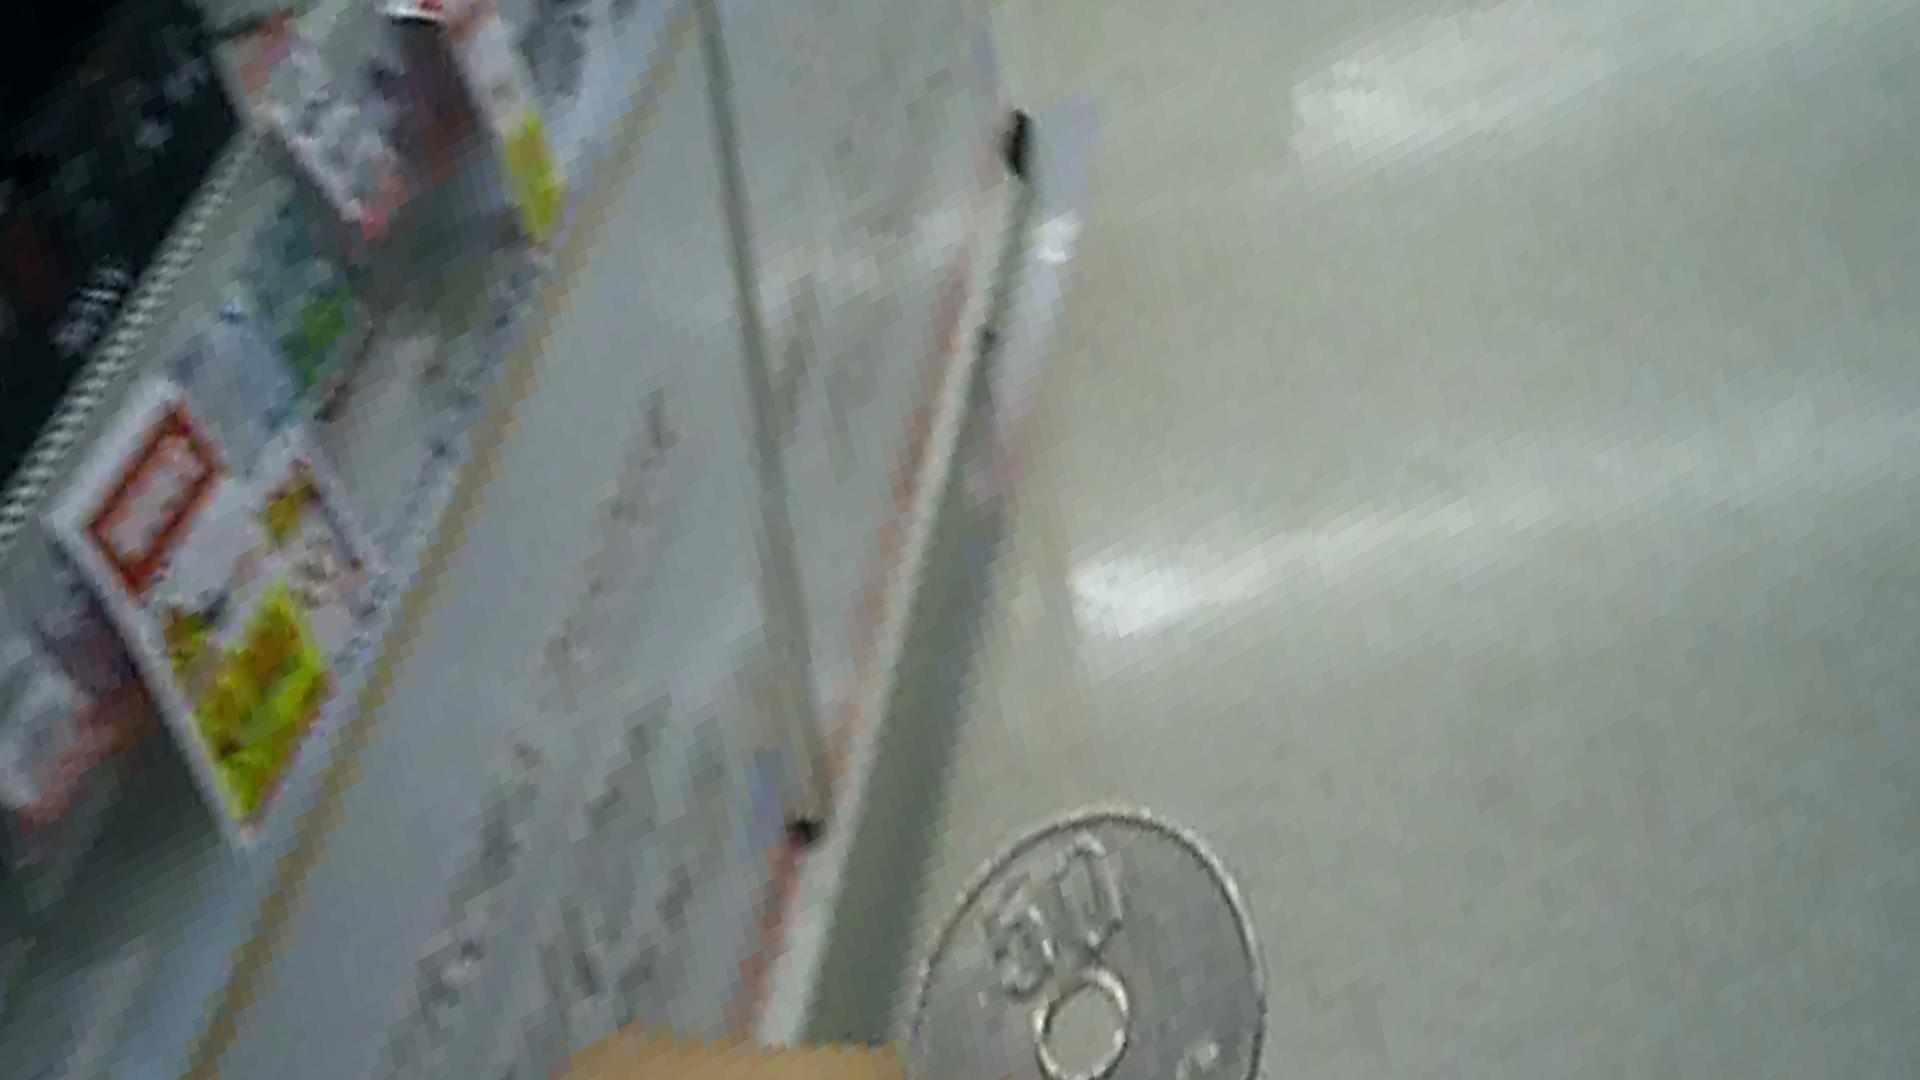50 Yen: (913, 806, 1282, 1077)
